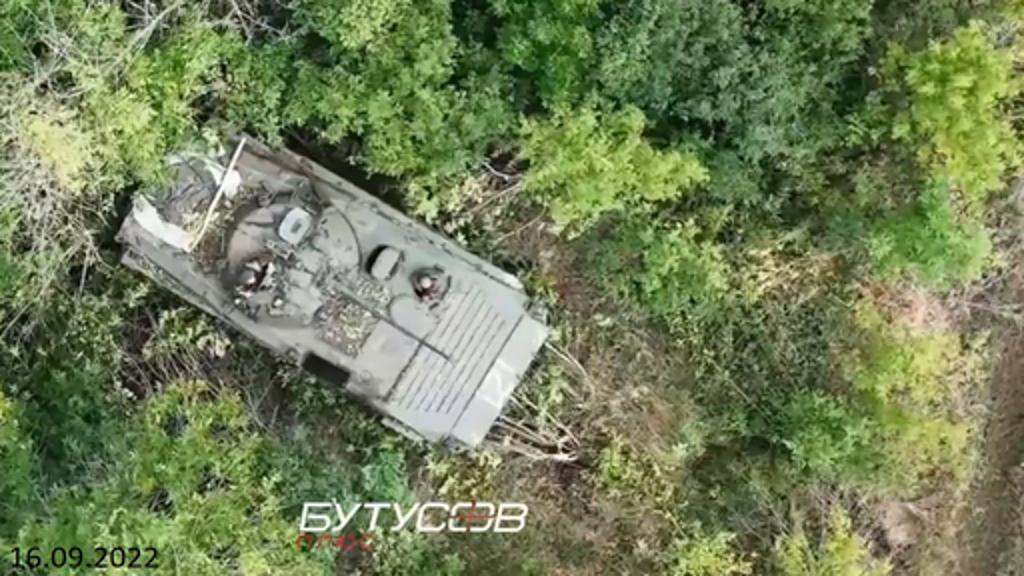APC-IFV: (102, 102, 548, 462)
